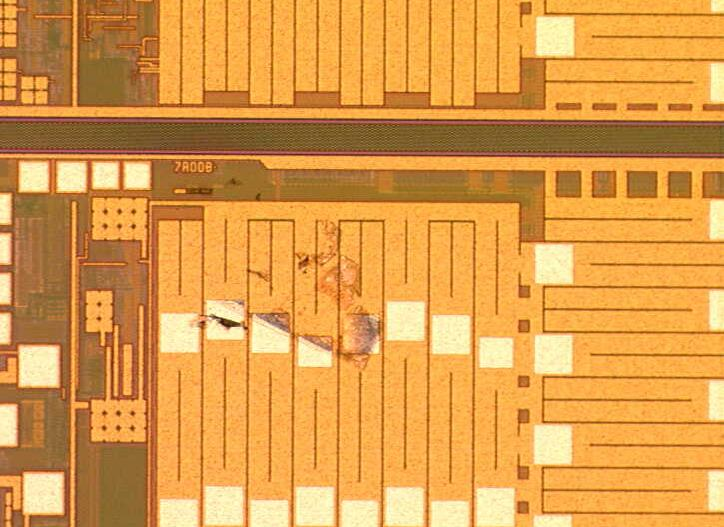BLOCK ETCH: (183, 217, 386, 374)
